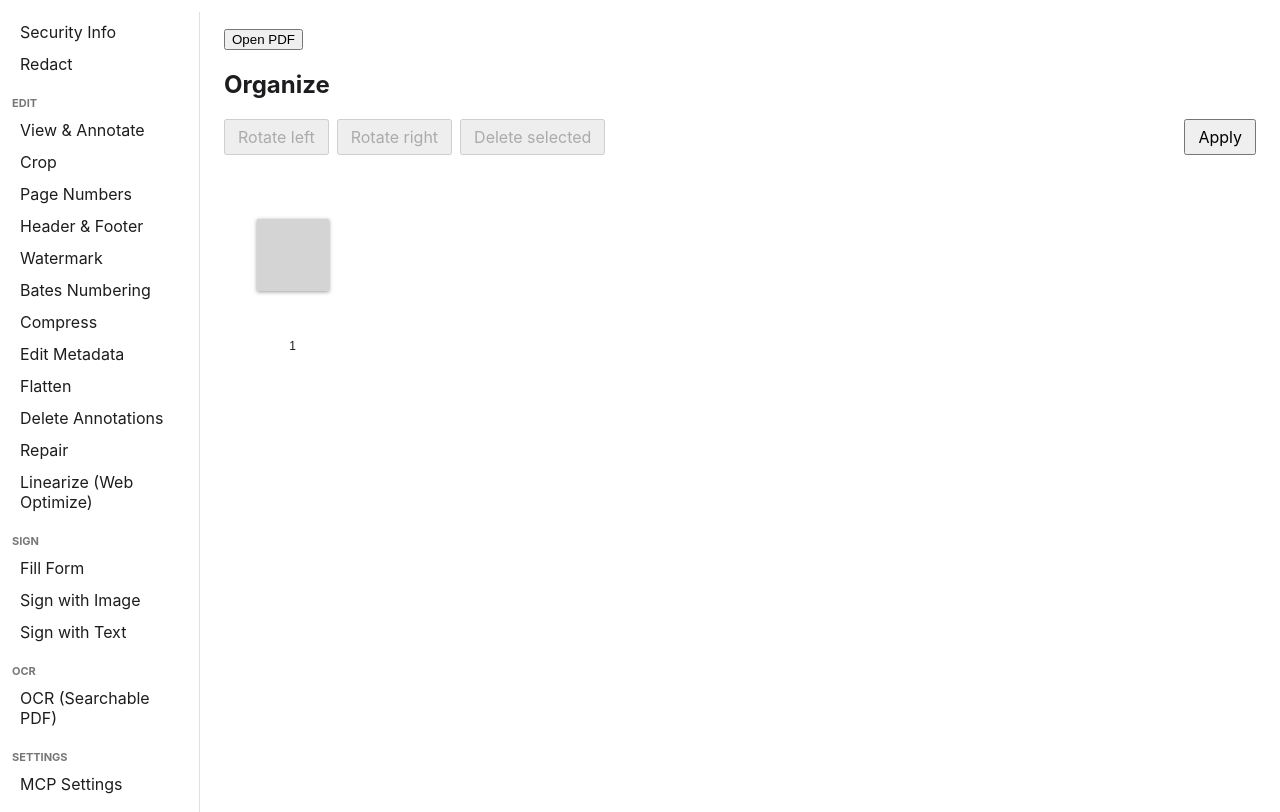
Scenario: App › shows the dropped form's fields in Fill Form
(page scrolled)
Click the button "Fill Form". click: (100, 568)
box: [12,552,187,584]
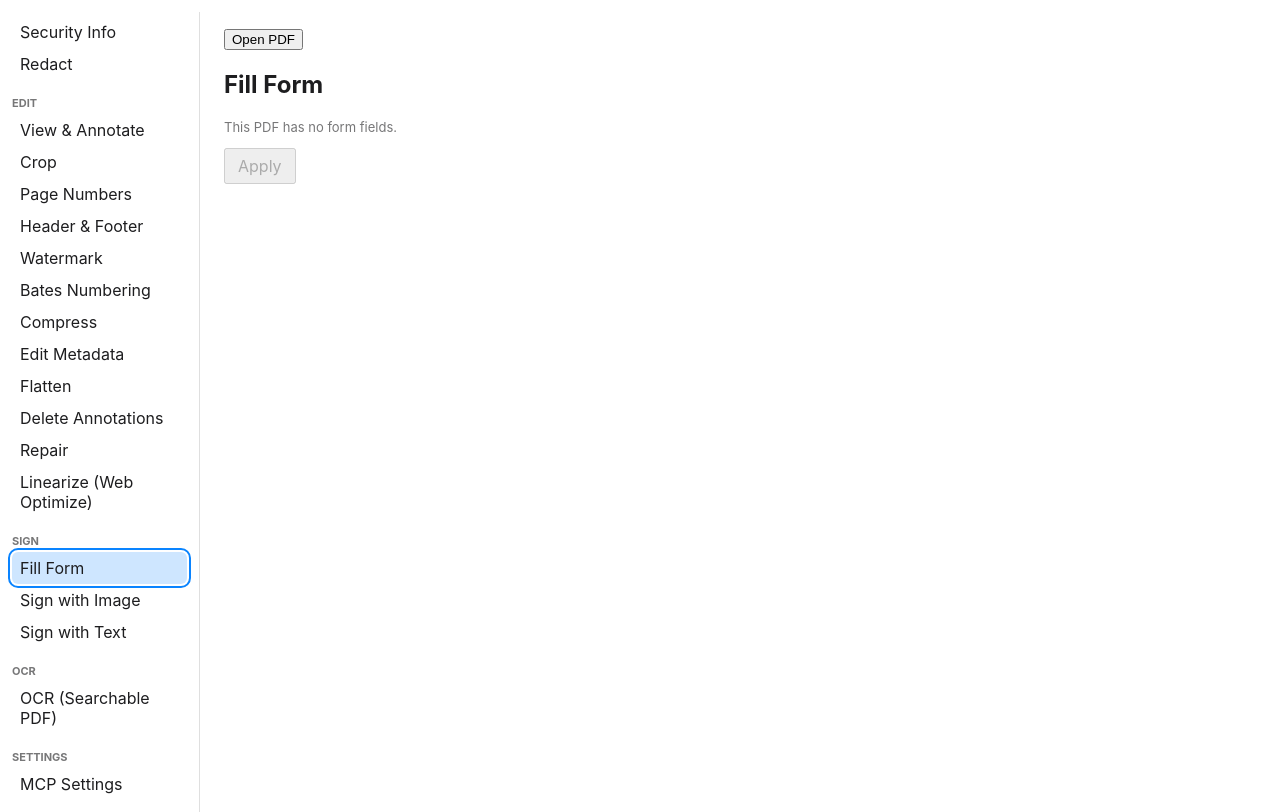
Check: the heading "Fill Form" is shown, box [224,70,323,99]
